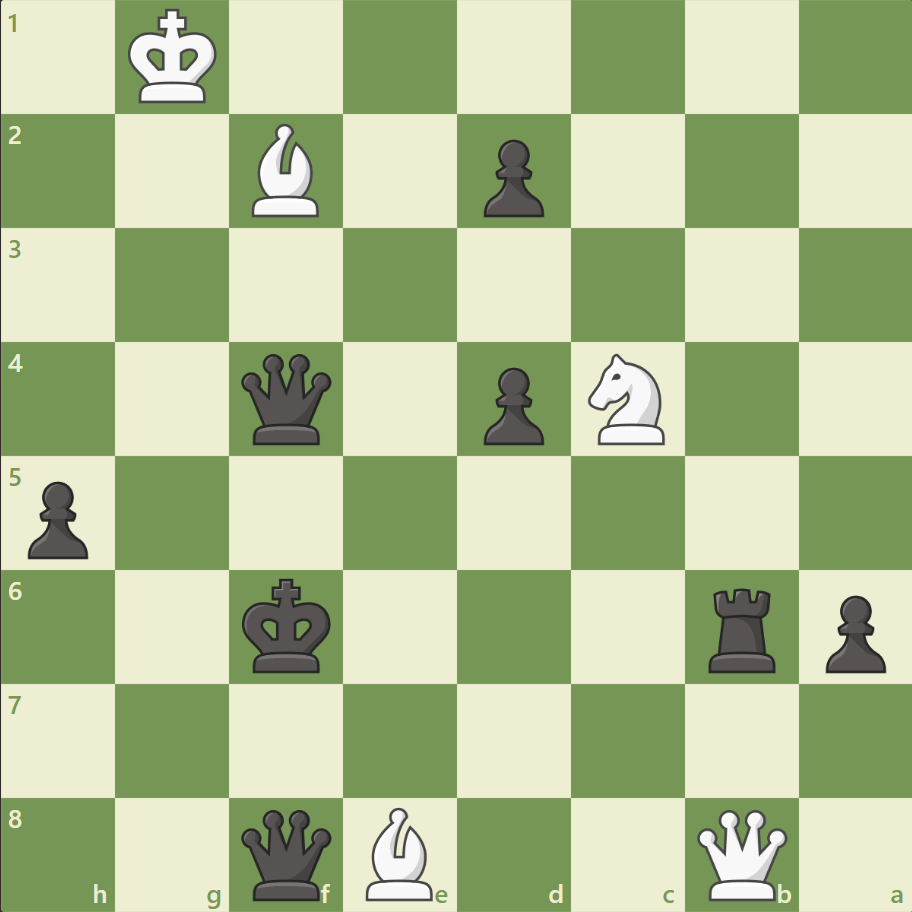B: (358, 801, 442, 904), (244, 120, 328, 222)
K: (124, 4, 224, 112)
N: (579, 348, 676, 450)
Q: (691, 804, 790, 903)
k: (238, 571, 338, 679)
p: (20, 473, 95, 564), (474, 359, 549, 450), (474, 132, 549, 223), (815, 586, 889, 677)
q: (237, 349, 336, 449), (237, 804, 336, 903)
r: (700, 579, 783, 676)
